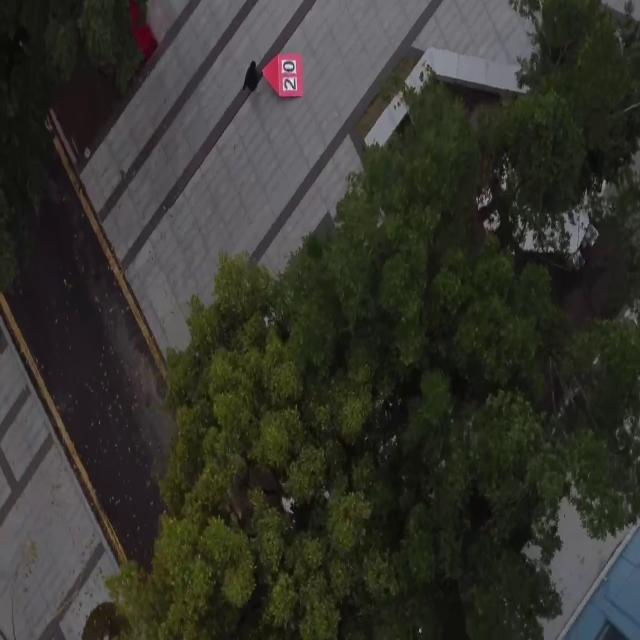-sign-: (262, 50, 304, 100)
